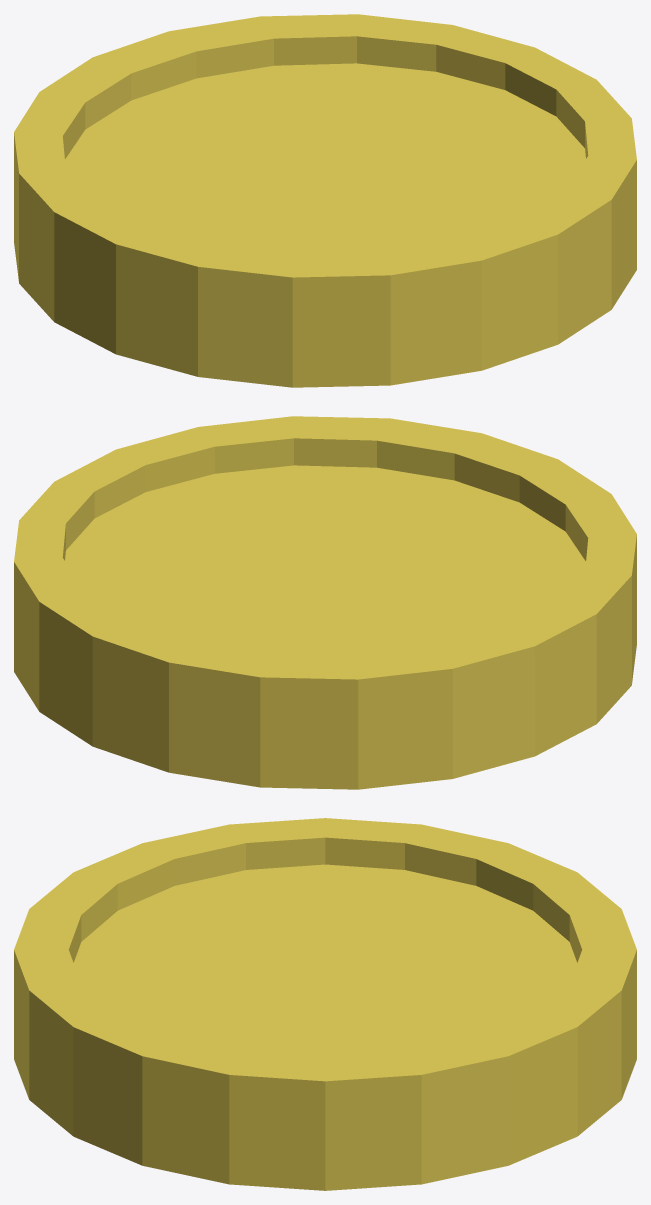
The model's file is COIN.fbx.
The picture shows the model from 3 angles, top to bottom: view 1: azimuth 30°, elevation 25°; view 2: azimuth 150°, elevation 25°; view 3: azimuth 270°, elevation 25°; orthographic projection.
Visible parts, largest first — view 1: pCylinder1; view 2: pCylinder1; view 3: pCylinder1.
Boxes of the visible parts, left/top/right/bottom form: pCylinder1: left=14, top=14, right=636, bottom=387; pCylinder1: left=14, top=416, right=636, bottom=789; pCylinder1: left=14, top=818, right=636, bottom=1190.
Bounding box in the file's own units: 2 × 0.3881 × 2.
